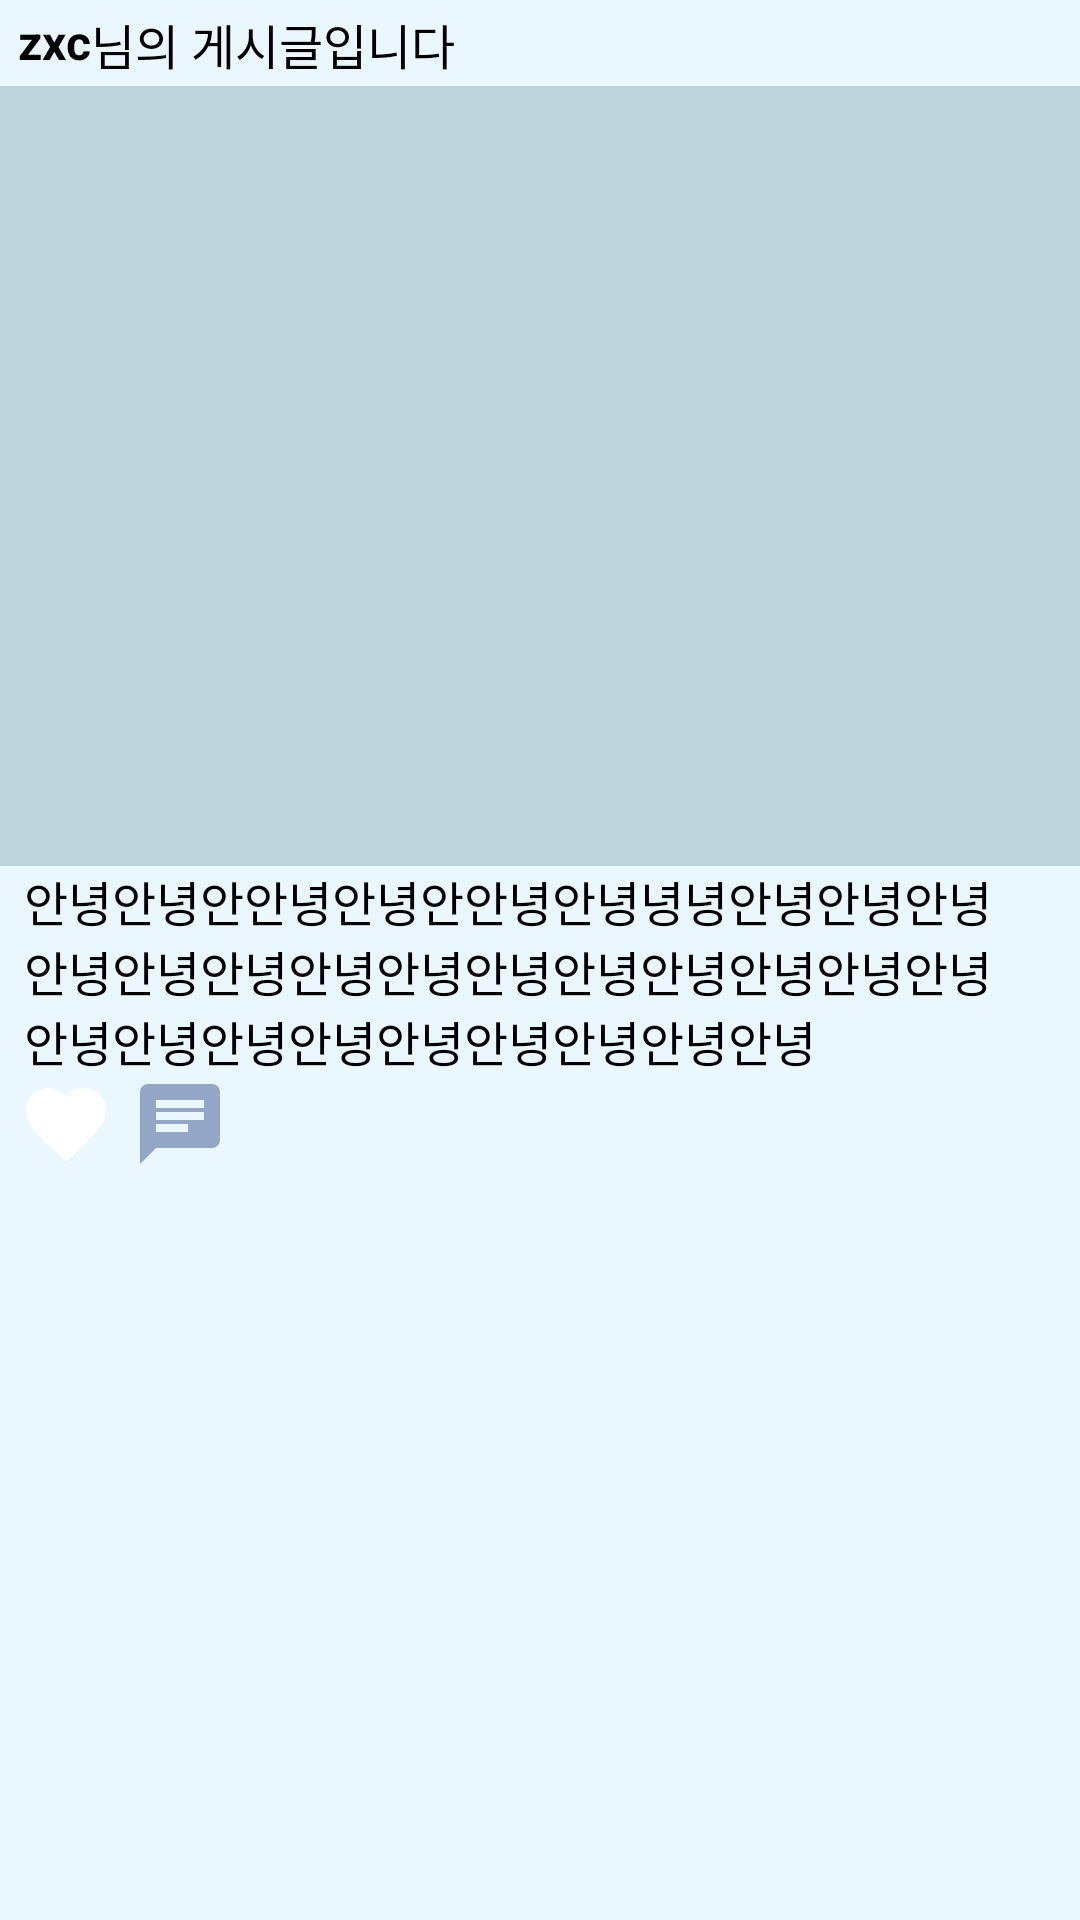

Icons on this 1080x1920 Android screen, each with the point to tap as (x=x, y=y):
chat: (x=180, y=1124)
